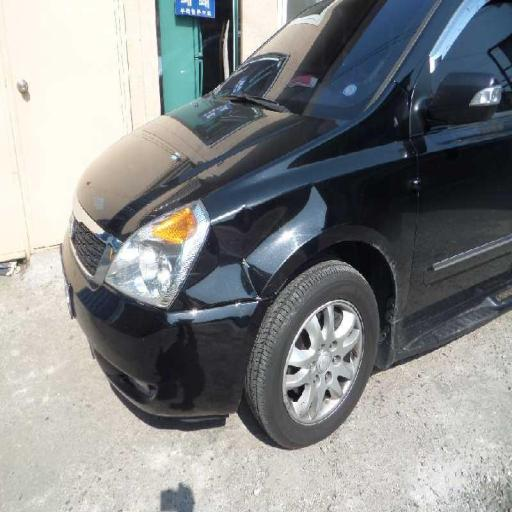dent: (148, 190, 364, 324)
